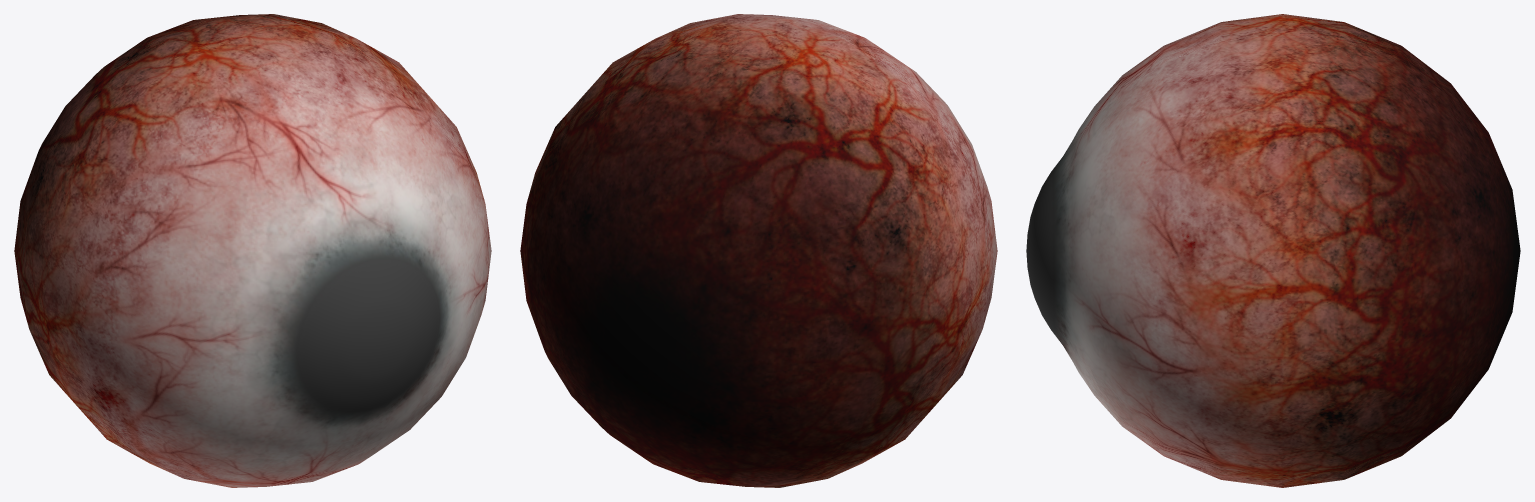
Rendered from EyeAnimation.fbx.
3 views of the same model, side by side, from view 1: azimuth 30°, elevation 25°; view 2: azimuth 150°, elevation 25°; view 3: azimuth 270°, elevation 25° (orthographic).
Parts seen in each view (by area): view 1: Eyeball; view 2: Eyeball; view 3: Eyeball.
Part boxes in pixels (bbox=[...]): Eyeball: bbox=[14, 14, 491, 487]; Eyeball: bbox=[520, 14, 997, 487]; Eyeball: bbox=[1026, 14, 1520, 487].
Bounding box in the file's own units: 48.12 × 48.12 × 49.98.
